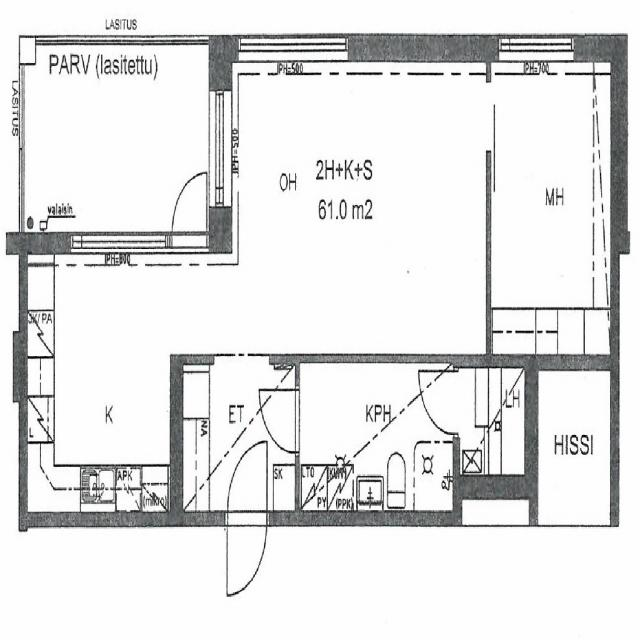door: (228, 441, 267, 526), (228, 511, 267, 596), (171, 170, 207, 253), (418, 372, 460, 434), (260, 390, 300, 453)
